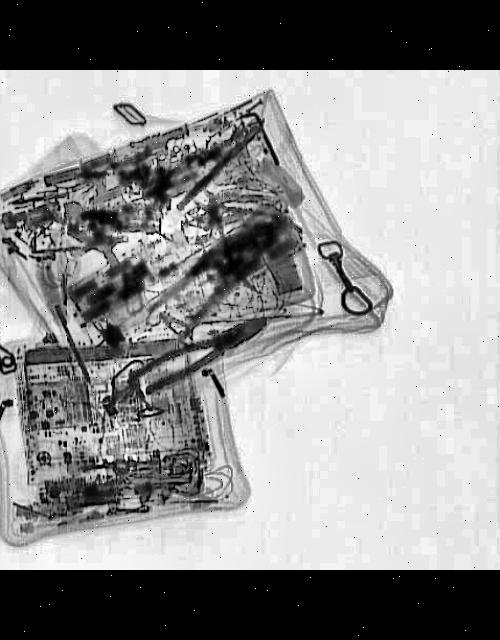Pliers: (146, 202, 304, 338), (130, 305, 276, 397)
